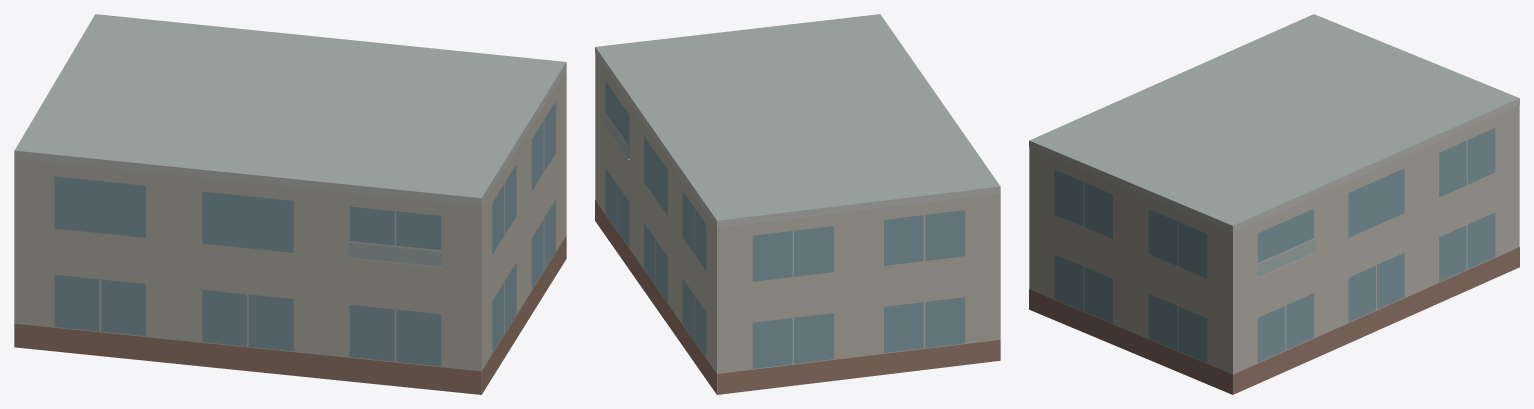
File: survey-upis-32474711.glb
3 views of the same model, side by side, from view 1: azimuth 30°, elevation 25°; view 2: azimuth 150°, elevation 25°; view 3: azimuth 270°, elevation 25° (orthographic). The views are drawn at different scales.
Parts seen in each view (by area): view 1: survey-upis-32474711.tmp; view 2: survey-upis-32474711.tmp; view 3: survey-upis-32474711.tmp.
Part boxes in pixels (x1=…): survey-upis-32474711.tmp: x1=14, y1=14, x2=566, y2=394; survey-upis-32474711.tmp: x1=595, y1=14, x2=1000, y2=394; survey-upis-32474711.tmp: x1=1029, y1=14, x2=1519, y2=394.
Size of the model in its own units: 16.4 by 6.1 by 16.05.
